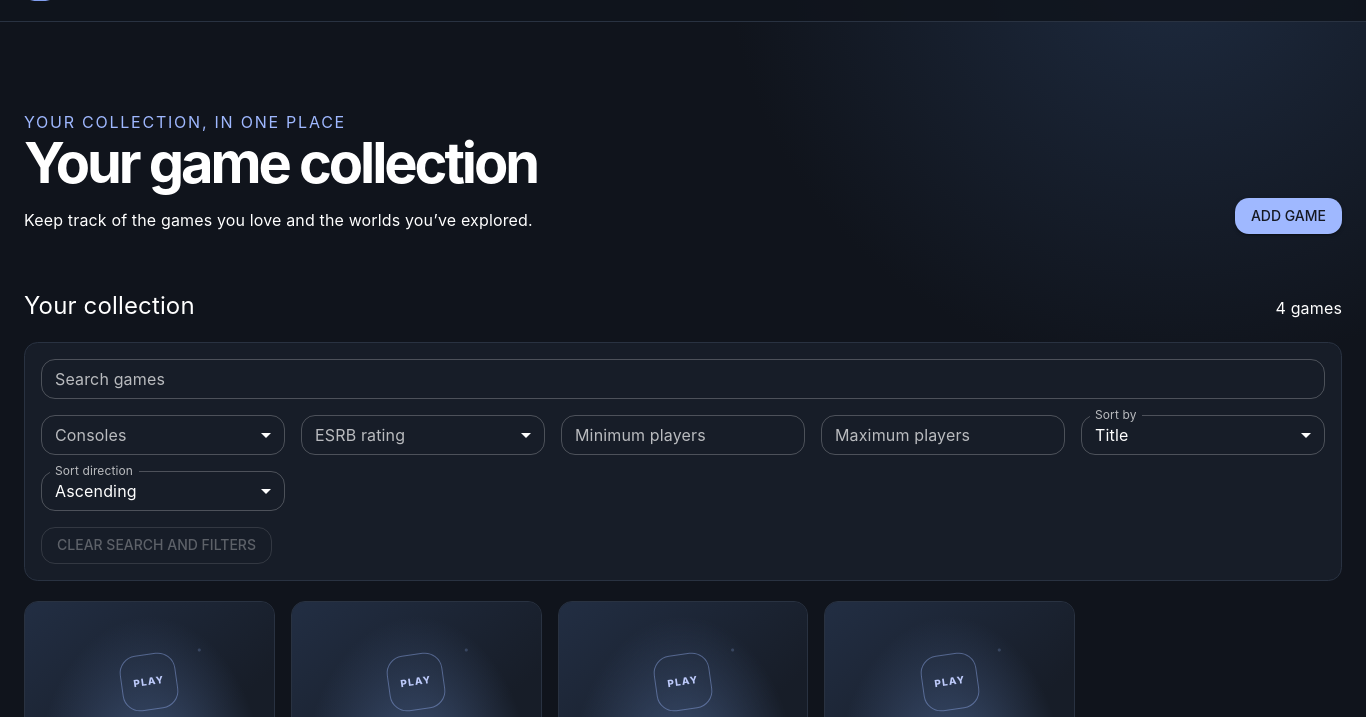
it: collection view › searches by title and comments, shows no matches, and clears criteria
Type "weekend co-op" into the search field labelled "Search games" at (683,379), box [41,359,1325,399]
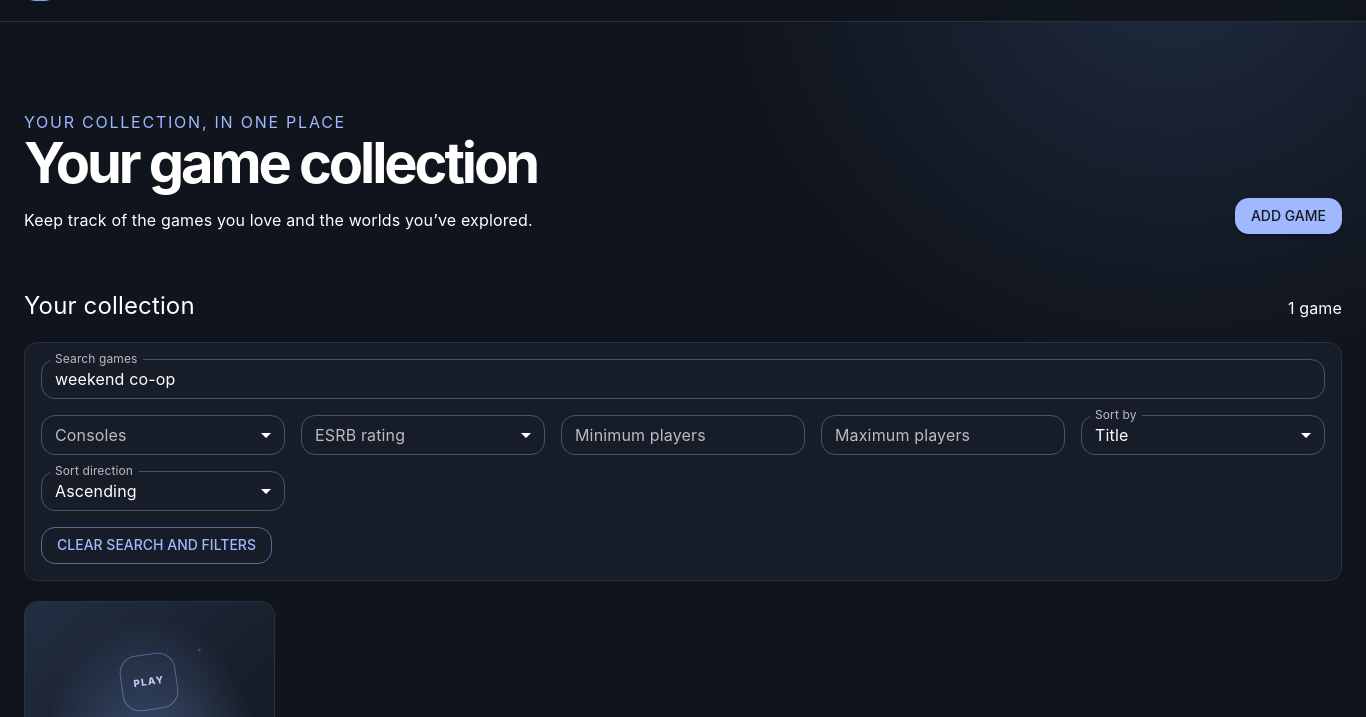
Check: the text "1 game" is shown, box [1288,296,1342,320]
Replace the text in the search field labelled "Search games" with "no matching game" at (683,379), box [41,359,1325,399]
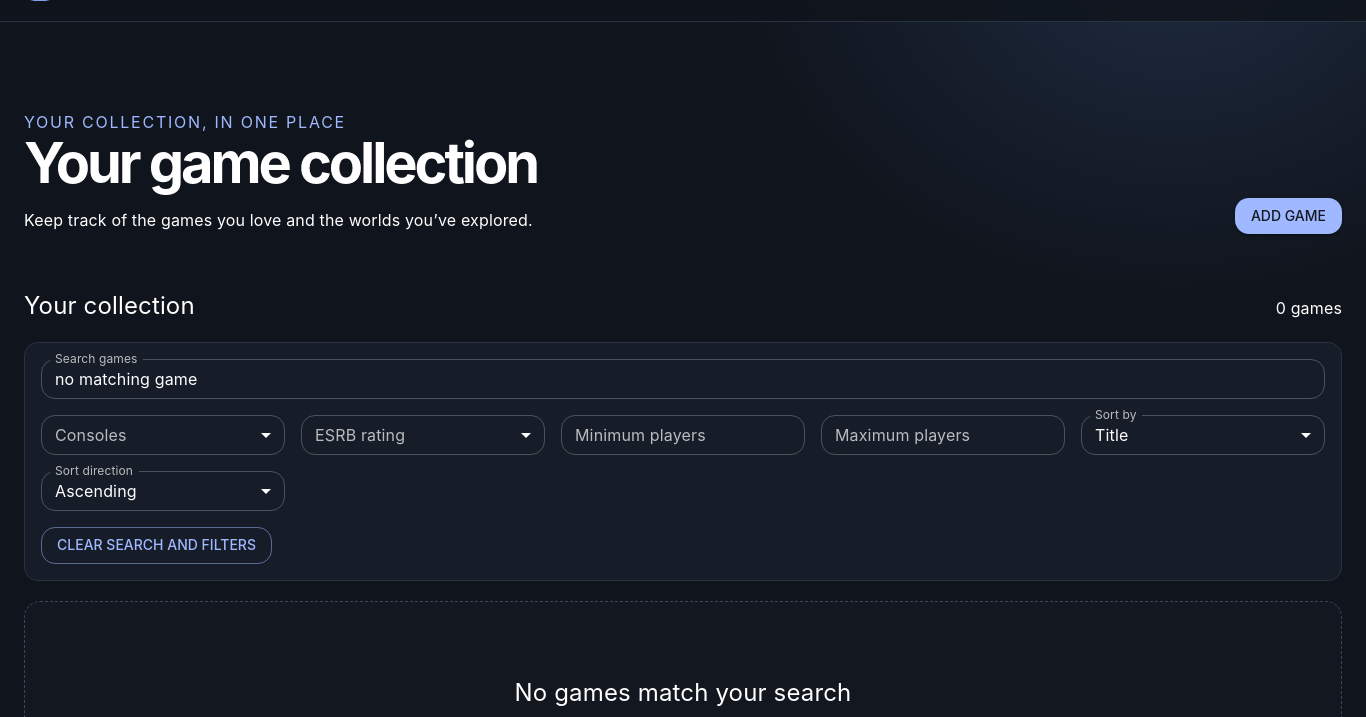
Check: the heading "No games match your search" is shown, box [515,677,851,709]
Click the button "Clear search and filters" at (156,546), box [41,527,272,564]
(page scrolled)
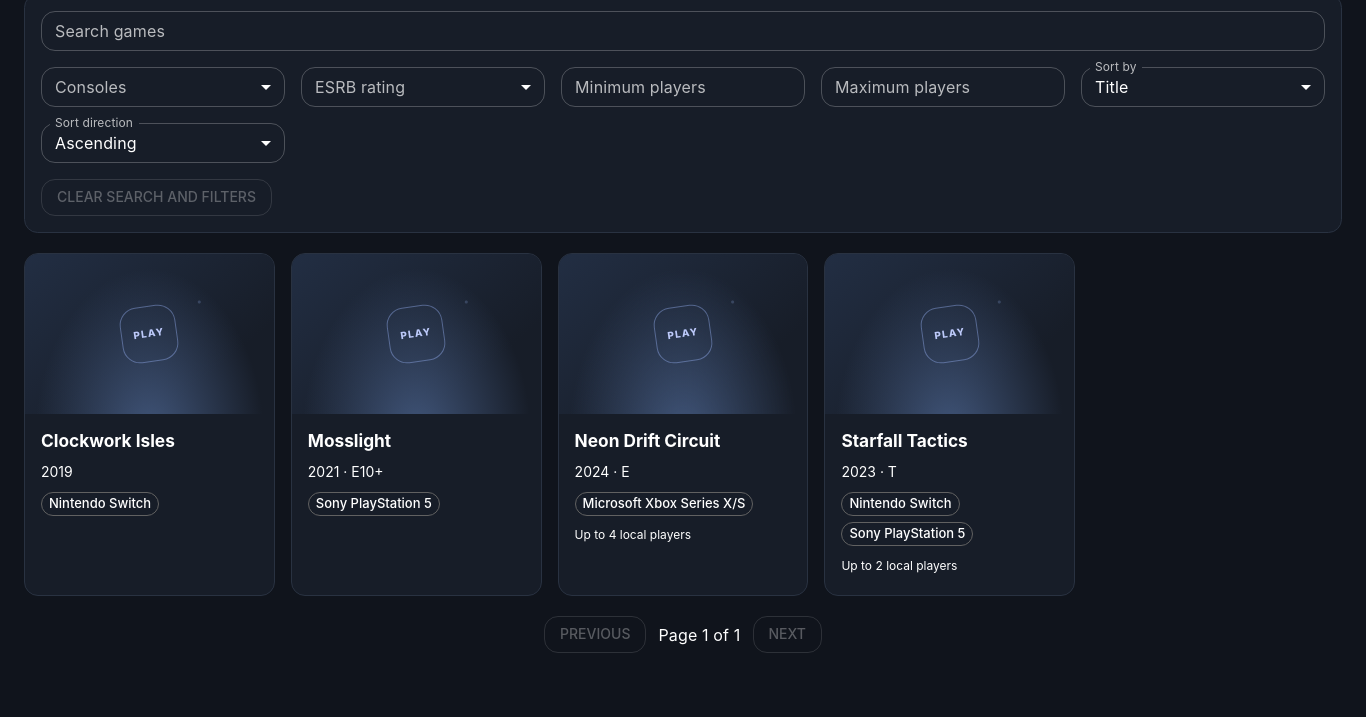
Check: the button with aria-label "View details for Clockwork Isles" is shown, box [25,254,274,558]
Check: the heading "No games match your search" is gone
